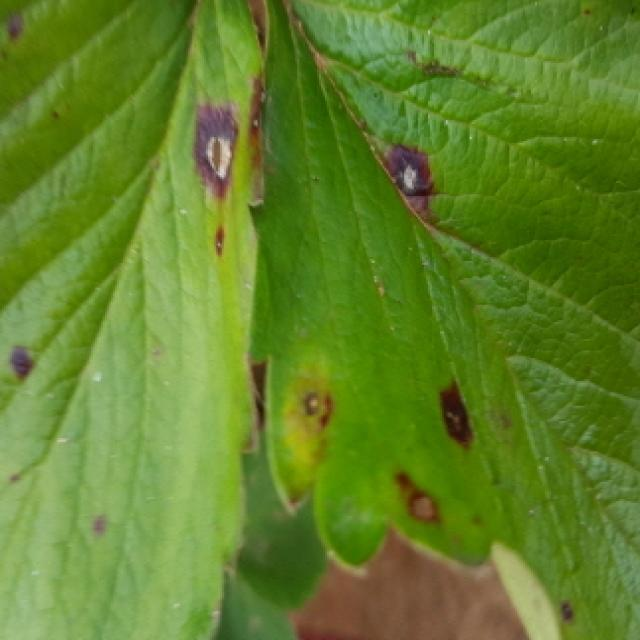Leaf Spot: (243, 0, 640, 640)
